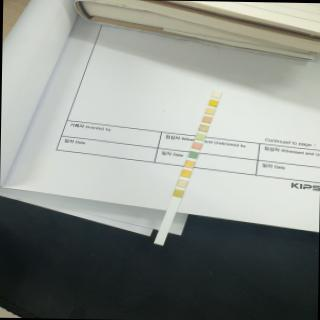mark: (172, 188, 184, 198), (180, 169, 192, 177), (177, 179, 187, 187), (184, 160, 194, 168), (188, 150, 198, 158), (192, 142, 202, 150), (195, 132, 205, 140), (205, 107, 215, 114), (208, 99, 218, 106), (212, 90, 220, 98), (199, 125, 208, 132), (202, 116, 211, 123)
